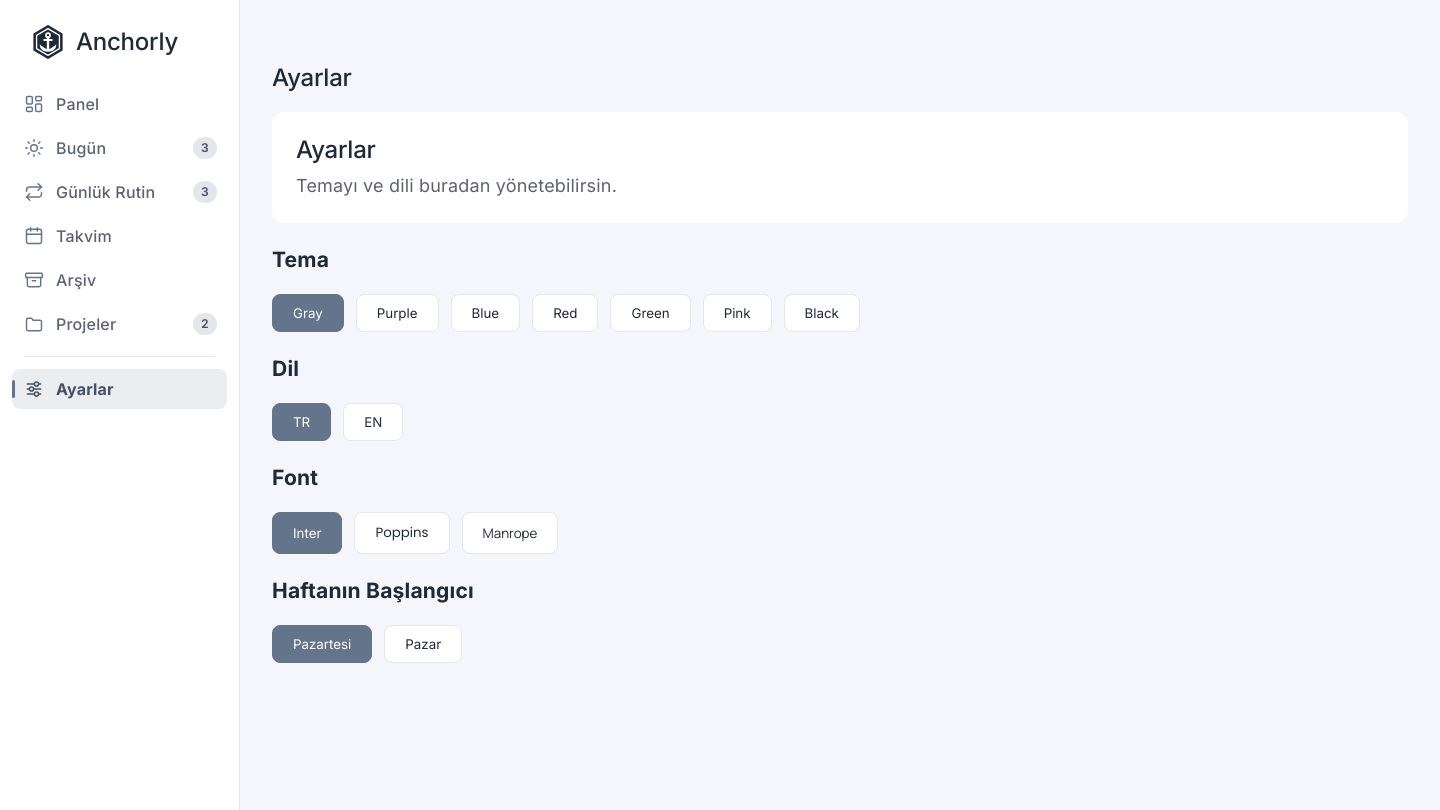
App settings › switches the interface to English and saves the language
The image size is (1440, 810).
Click the button "EN" at (373, 422), box [343,403,403,441]
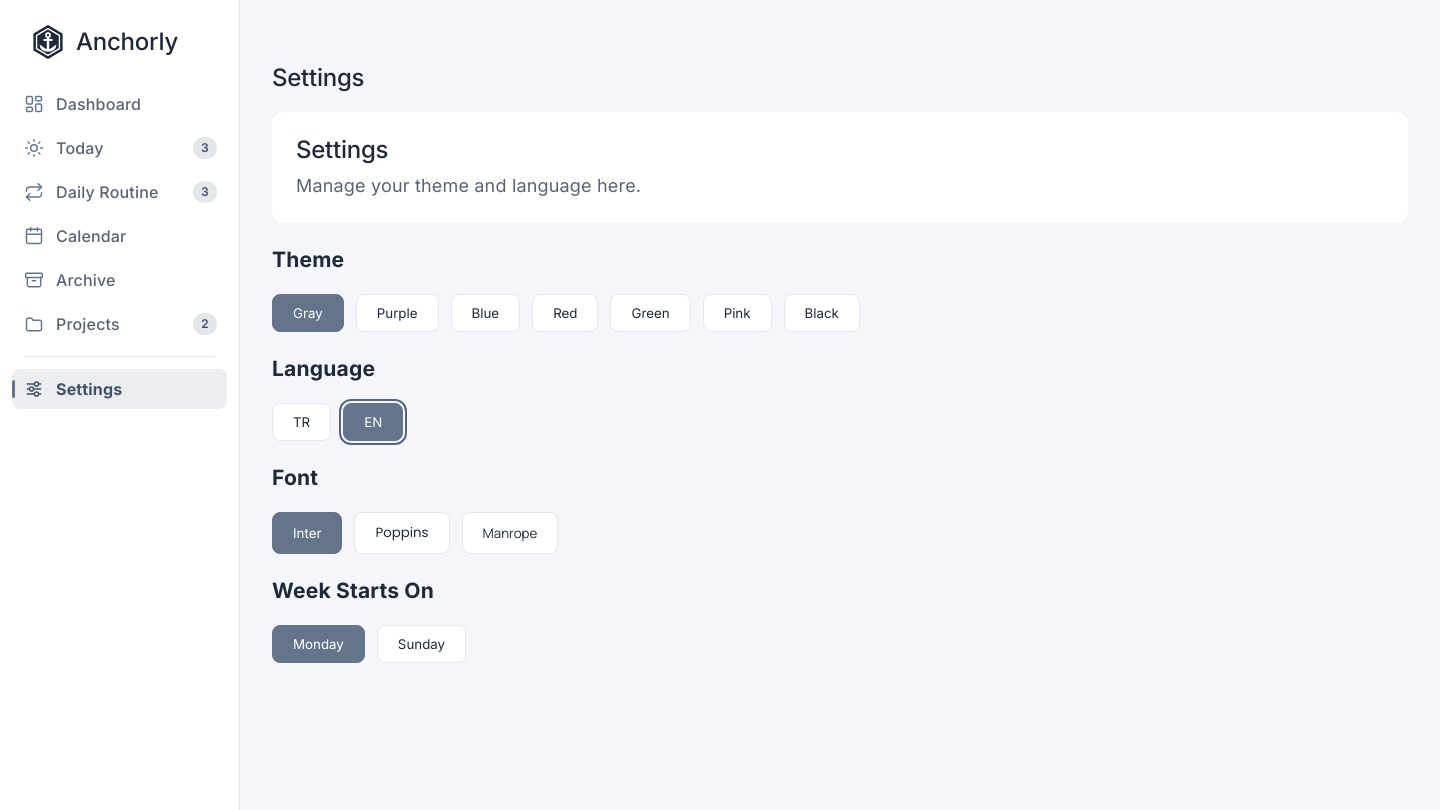
Expected: the 1st heading "Settings" is shown, [272,63,364,92]
